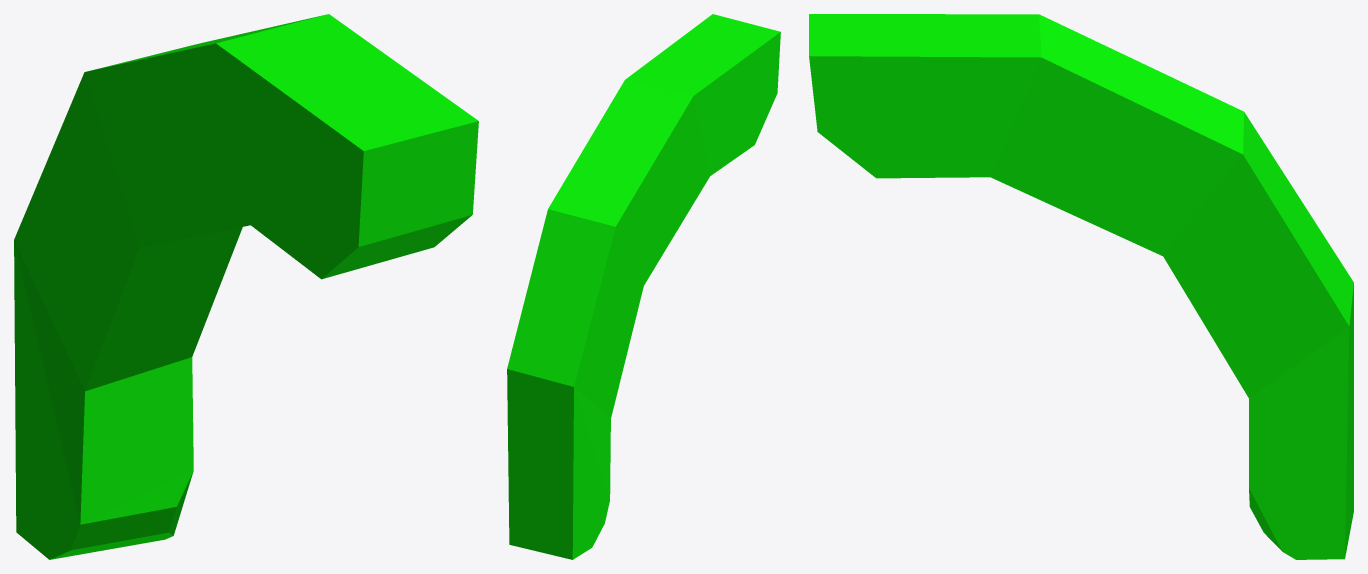
Rendered from SM_Balcony_Support_Decor_Out_B.fbx.
3 renders of one model, left to right at view 1: azimuth 30°, elevation 25°; view 2: azimuth 150°, elevation 25°; view 3: azimuth 270°, elevation 25°, orthographic. The views are drawn at different scales.
Visible parts, largest first — view 1: balcony-support-decor-out-b; view 2: balcony-support-decor-out-b; view 3: balcony-support-decor-out-b.
Part boxes in pixels (x1,y1,x2,y2): balcony-support-decor-out-b: (14, 14, 478, 559); balcony-support-decor-out-b: (507, 14, 780, 559); balcony-support-decor-out-b: (809, 14, 1353, 559).
Size of the model in its own units: 0.182 by 0.9689 by 0.9491.
